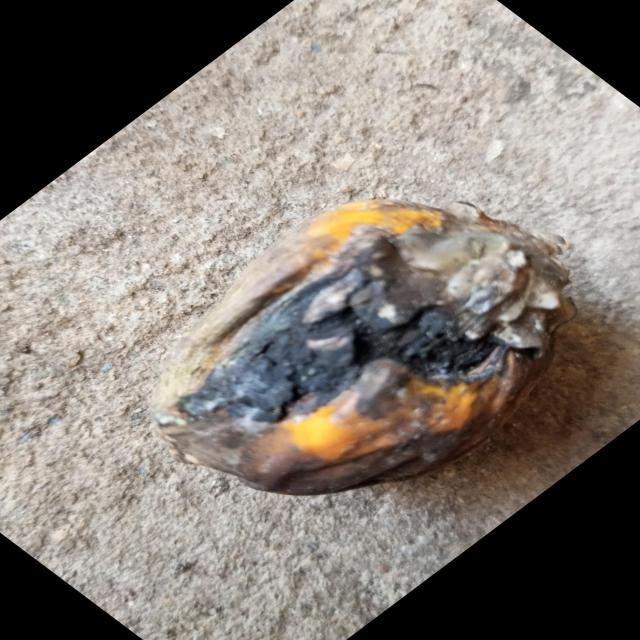damaged: (151, 199, 576, 495)
